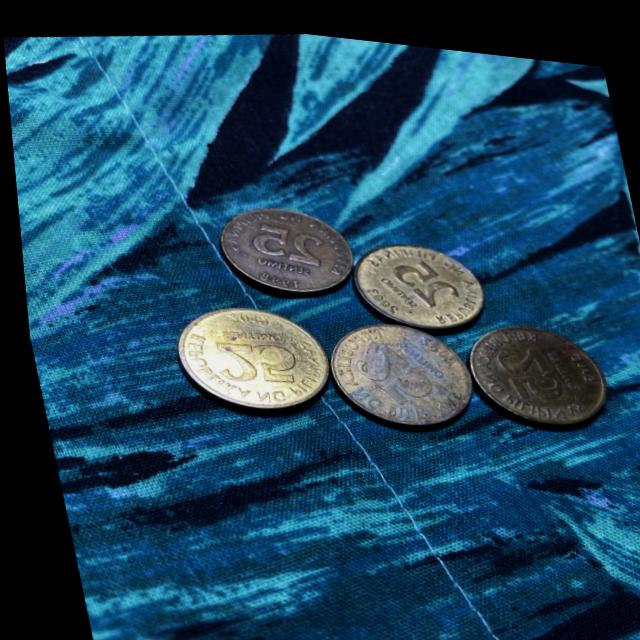25Cent_Old_Front: (347, 330, 436, 402), (204, 329, 291, 388), (488, 327, 556, 396), (247, 212, 321, 263), (392, 244, 453, 303)
